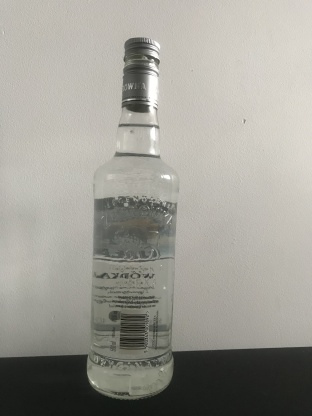nakretka: (120, 35, 161, 113)
